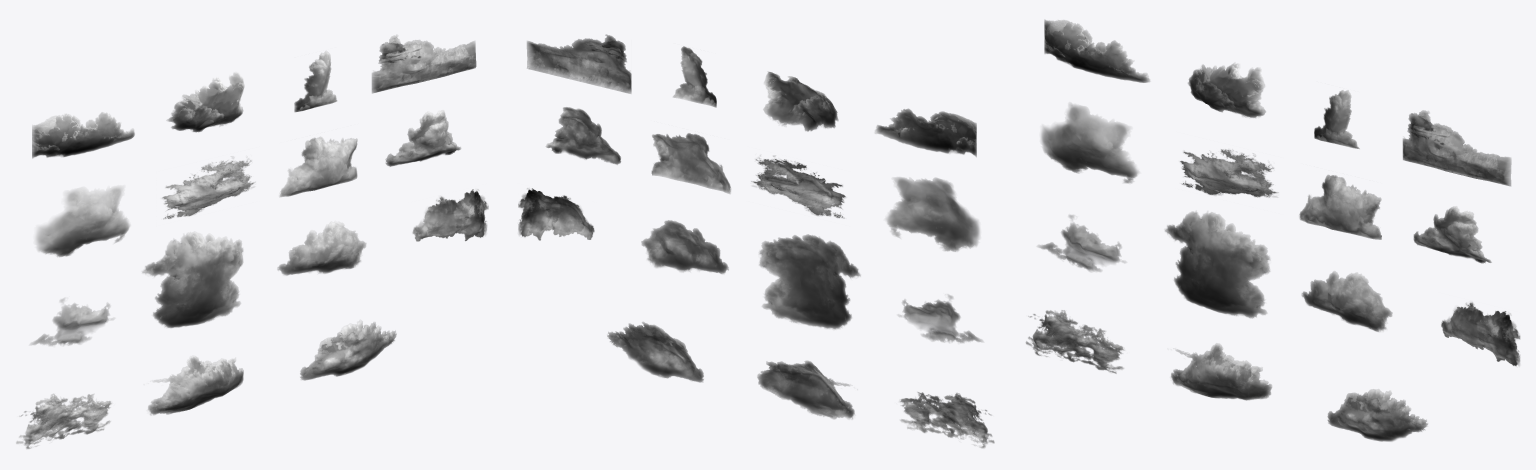
Rendered from cloud.glb.
The picture shows the model from 3 angles, left to right: view 1: azimuth 30°, elevation 25°; view 2: azimuth 150°, elevation 25°; view 3: azimuth 330°, elevation 25°; orthographic projection. The views are drawn at different scales.
Visible parts, largest first — view 1: Obj3d66-1709955-5-49, Obj3d66-1709955-9-132, Obj3d66-1709955-7-143, Obj3d66-1709955-3-623, Obj3d66-1709955-2-879, Obj3d66-1709955-8-591, Obj3d66-1709955-13-806, Obj3d66-1709955-1-628, Obj3d66-1709955-12-416, Obj3d66-1709955-6-113, Obj3d66-1709955-11-543, Obj3d66-1709955-4-508 (+3 smaller); view 2: Obj3d66-1709955-5-49, Obj3d66-1709955-9-132, Obj3d66-1709955-7-143, Obj3d66-1709955-3-623, Obj3d66-1709955-2-879, Obj3d66-1709955-8-591, Obj3d66-1709955-13-806, Obj3d66-1709955-12-416, Obj3d66-1709955-1-628, Obj3d66-1709955-6-113, Obj3d66-1709955-11-543, Obj3d66-1709955-4-508 (+3 smaller); view 3: Obj3d66-1709955-5-49, Obj3d66-1709955-9-132, Obj3d66-1709955-7-143, Obj3d66-1709955-3-623, Obj3d66-1709955-2-879, Obj3d66-1709955-8-591, Obj3d66-1709955-13-806, Obj3d66-1709955-1-628, Obj3d66-1709955-12-416, Obj3d66-1709955-6-113, Obj3d66-1709955-11-543, Obj3d66-1709955-4-508 (+3 smaller).
Boxes of the visible parts, x1,y1,x2,y2 form: Obj3d66-1709955-5-49: (142,231,243,327); Obj3d66-1709955-9-132: (35,185,130,256); Obj3d66-1709955-7-143: (372,34,476,93); Obj3d66-1709955-3-623: (148,355,243,414); Obj3d66-1709955-2-879: (32,112,134,158); Obj3d66-1709955-8-591: (300,319,396,380); Obj3d66-1709955-13-806: (279,136,357,196); Obj3d66-1709955-1-628: (277,221,366,275); Obj3d66-1709955-12-416: (16,393,111,448); Obj3d66-1709955-6-113: (162,156,254,219); Obj3d66-1709955-11-543: (167,71,244,132); Obj3d66-1709955-4-508: (412,189,488,241); Obj3d66-1709955-5-49: (759,234,860,329); Obj3d66-1709955-9-132: (885,177,979,251); Obj3d66-1709955-7-143: (527,34,631,93); Obj3d66-1709955-3-623: (757,360,854,419); Obj3d66-1709955-2-879: (874,108,976,156); Obj3d66-1709955-8-591: (607,322,703,382); Obj3d66-1709955-13-806: (651,133,730,193); Obj3d66-1709955-12-416: (899,392,994,448); Obj3d66-1709955-1-628: (641,220,728,273); Obj3d66-1709955-6-113: (751,156,845,218); Obj3d66-1709955-11-543: (763,71,838,131); Obj3d66-1709955-4-508: (518,188,594,240); Obj3d66-1709955-5-49: (1165,211,1269,318); Obj3d66-1709955-9-132: (1041,103,1138,183); Obj3d66-1709955-7-143: (1402,110,1511,186); Obj3d66-1709955-3-623: (1171,343,1271,400); Obj3d66-1709955-2-879: (1044,20,1150,82); Obj3d66-1709955-8-591: (1327,389,1427,441); Obj3d66-1709955-13-806: (1299,175,1381,239); Obj3d66-1709955-1-628: (1302,271,1392,331); Obj3d66-1709955-12-416: (1026,310,1124,373); Obj3d66-1709955-6-113: (1180,149,1278,197); Obj3d66-1709955-11-543: (1188,62,1265,117); Obj3d66-1709955-4-508: (1441,302,1520,366).
Size of the model in its own units: 45.58 by 30.68 by 2.22.
15 materials, 15 textured.
